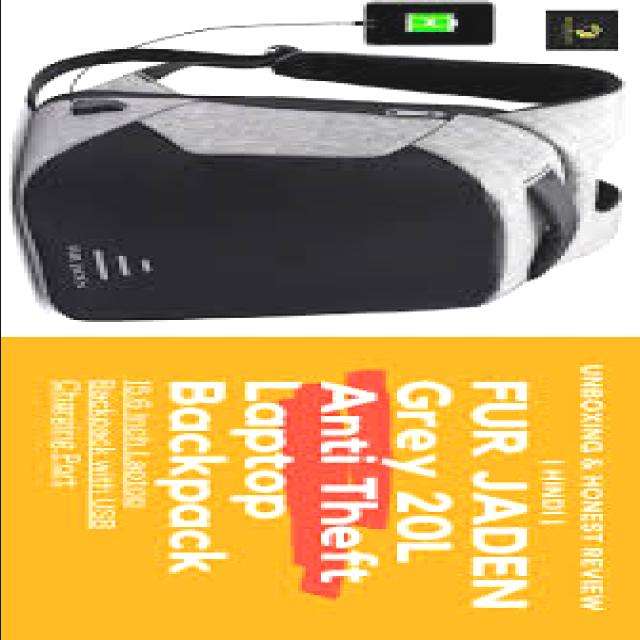backpack: (17, 44, 634, 322)
